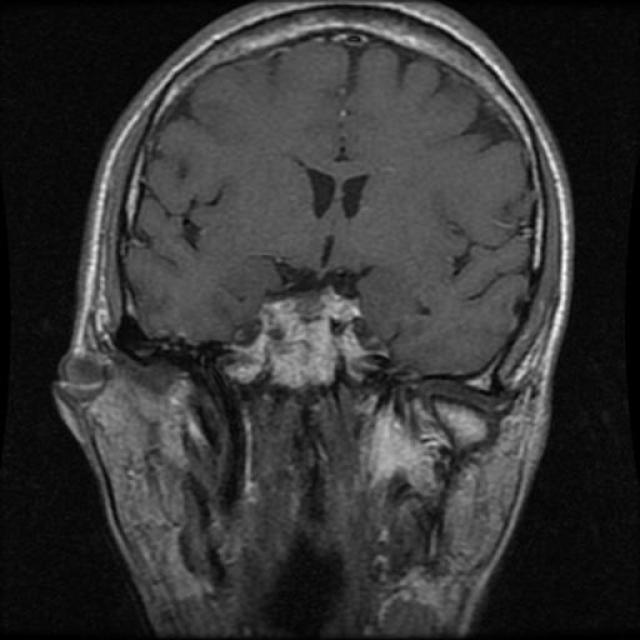pituitary: (222, 278, 382, 390)
